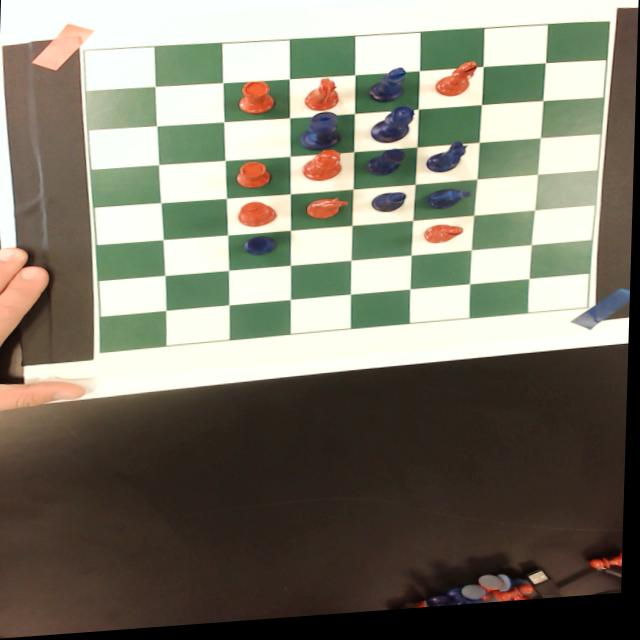B: (363, 72, 410, 111), (370, 197, 409, 221)
K: (296, 116, 344, 157)
N: (428, 146, 468, 182), (426, 193, 473, 219)
Q: (367, 112, 416, 151)
R: (364, 154, 407, 185), (242, 238, 280, 262)
b: (434, 68, 481, 106), (424, 230, 467, 252)
k: (239, 204, 281, 233)
n: (299, 80, 342, 118), (306, 201, 350, 225)
q: (301, 153, 343, 187)
r: (231, 83, 278, 120), (234, 164, 274, 194)
